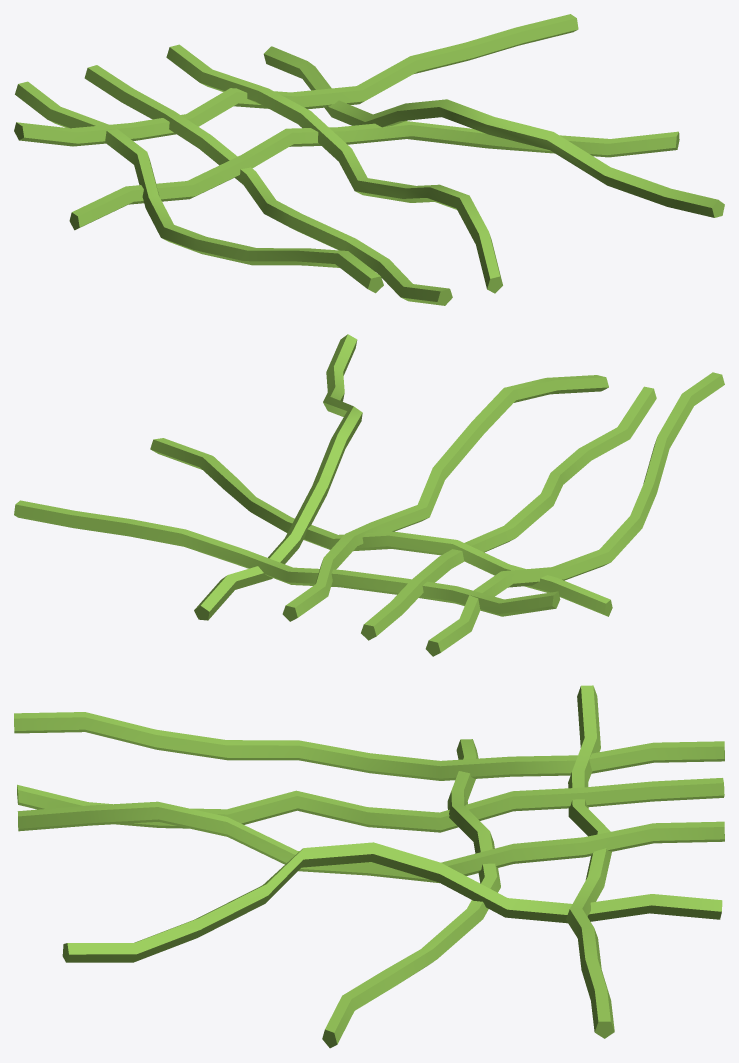
Rendered from mesh_Rebar1_v2.fbx.
3 views of the same model, one above another, from view 1: azimuth 30°, elevation 25°; view 2: azimuth 150°, elevation 25°; view 3: azimuth 270°, elevation 25° (orthographic). The views are drawn at different scales.
Parts seen in each view (by area): view 1: mesh_Rebar1_v2_0; view 2: mesh_Rebar1_v2_0; view 3: mesh_Rebar1_v2_0.
Part boxes in pixels (x1=…): mesh_Rebar1_v2_0: x1=14, y1=14, x2=724, y2=305; mesh_Rebar1_v2_0: x1=14, y1=334, x2=724, y2=656; mesh_Rebar1_v2_0: x1=14, y1=685, x2=724, y2=1048.
Size of the model in its own units: 144 by 21.83 by 145.
